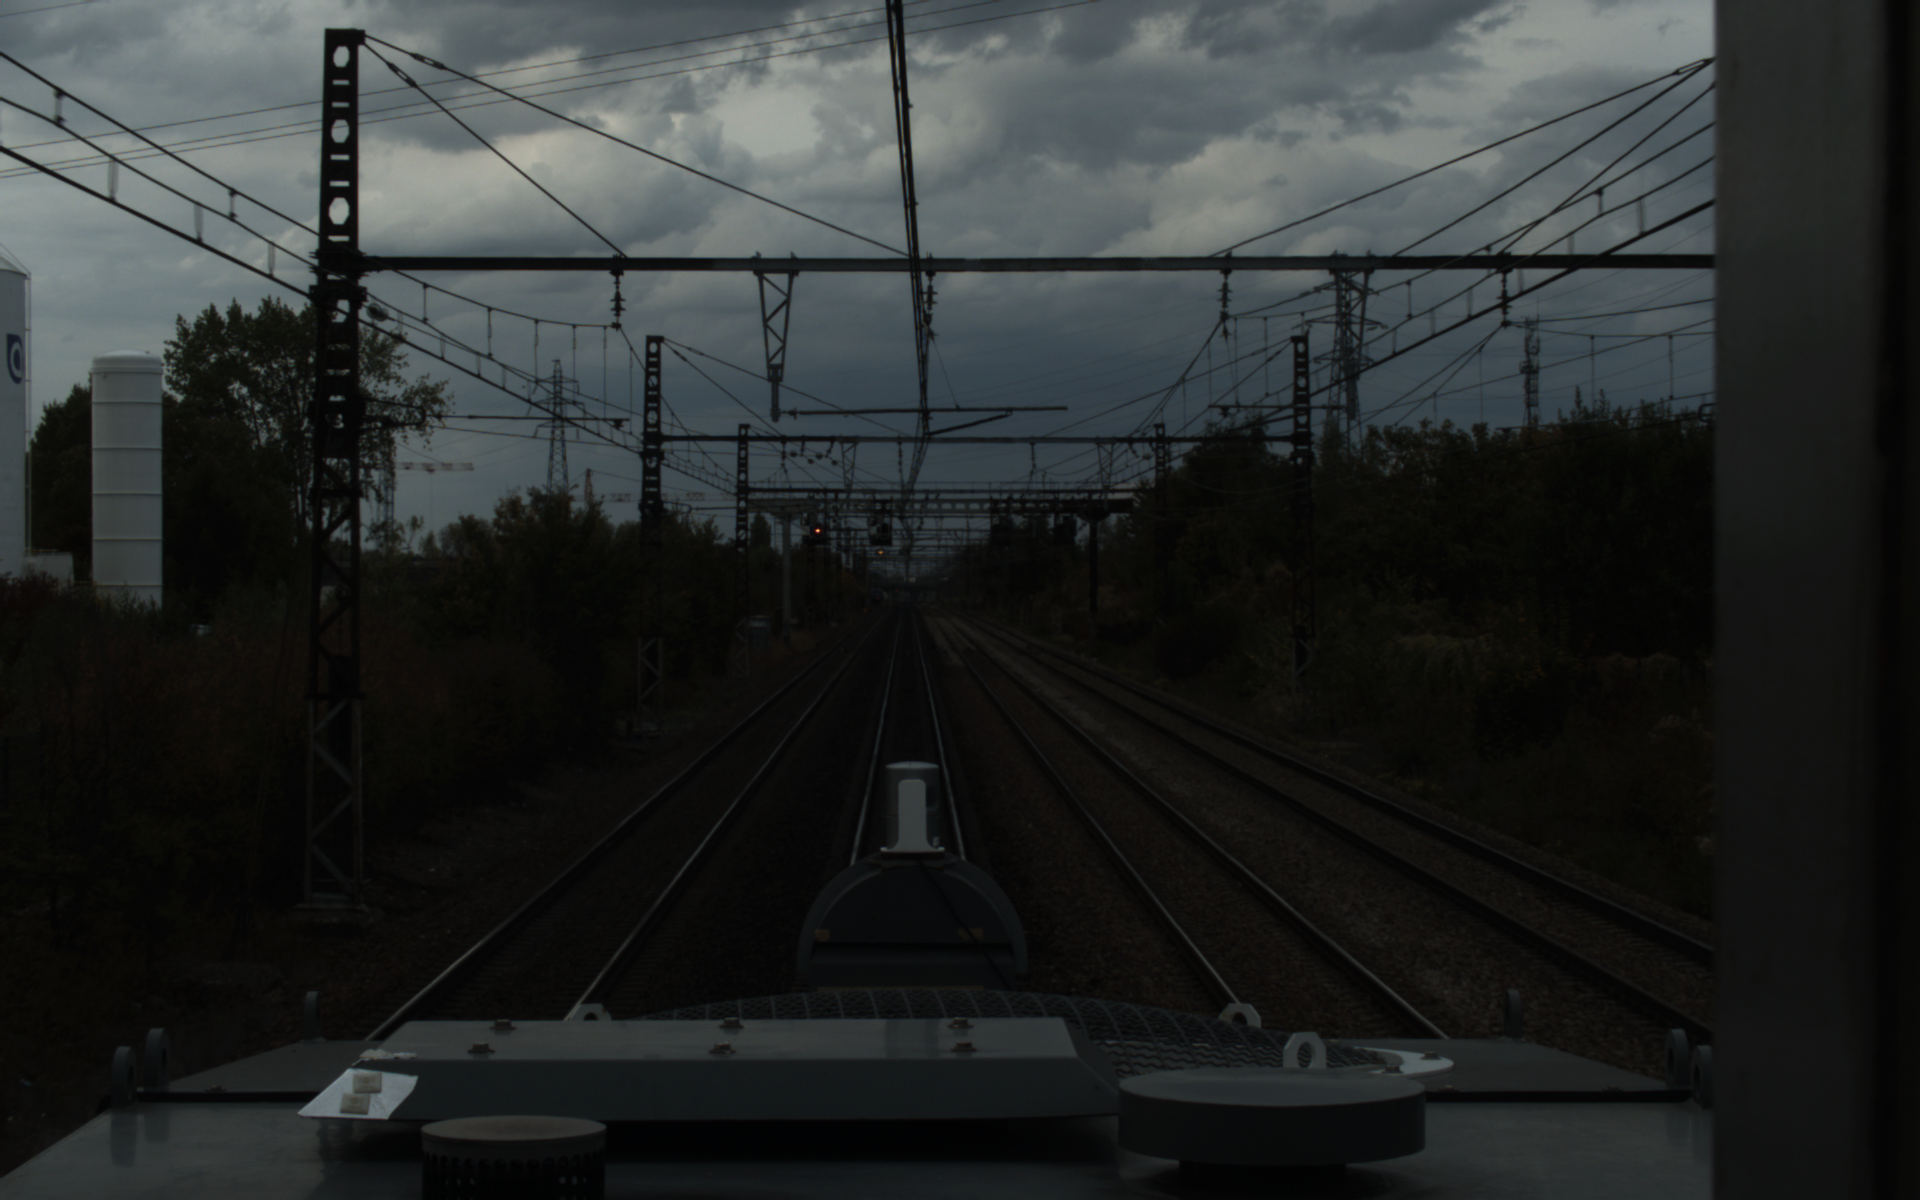Blinking: (876, 521, 890, 541)
Fixed: (809, 520, 825, 541)
